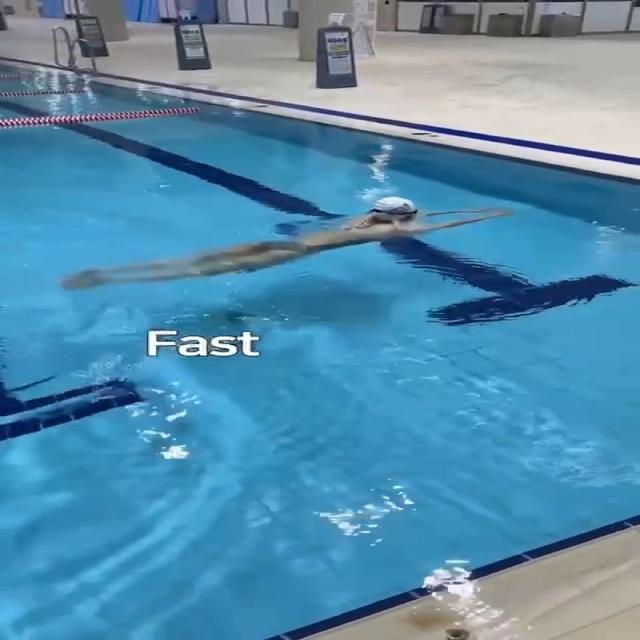Swimming: (52, 192, 514, 296)
